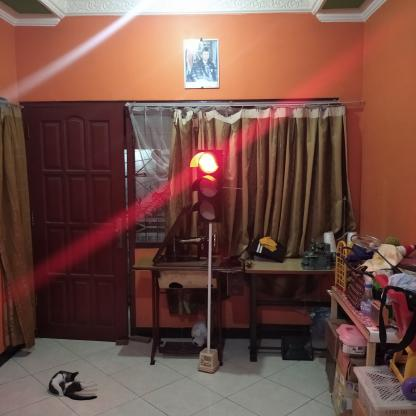red: (192, 149, 222, 222)
